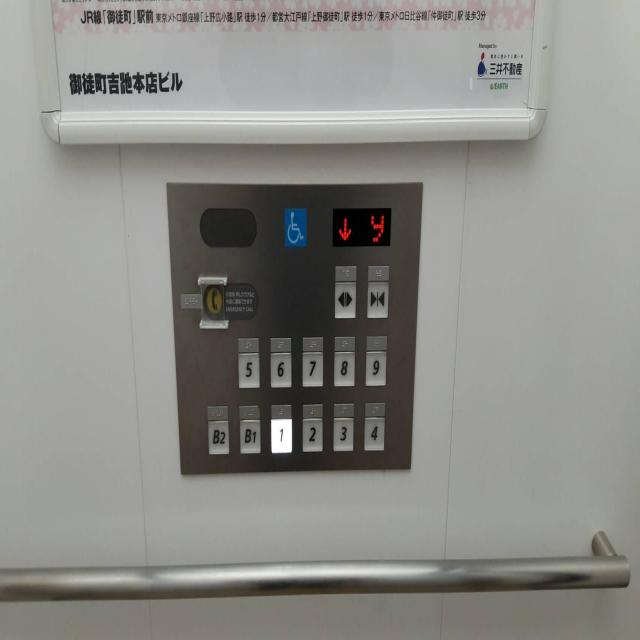1: (270, 417, 292, 455)
2: (300, 415, 324, 454)
3: (332, 415, 354, 454)
4: (362, 415, 386, 453)
5: (237, 350, 260, 391)
6: (268, 350, 293, 390)
7: (301, 349, 324, 388)
8: (332, 350, 356, 390)
9: (363, 349, 387, 388)
B1: (238, 418, 261, 456)
B2: (206, 418, 230, 456)
CH: (282, 204, 308, 248)
call: (196, 273, 230, 332)
close: (365, 280, 389, 320)
led: (330, 203, 392, 248)
open: (333, 281, 357, 320)
